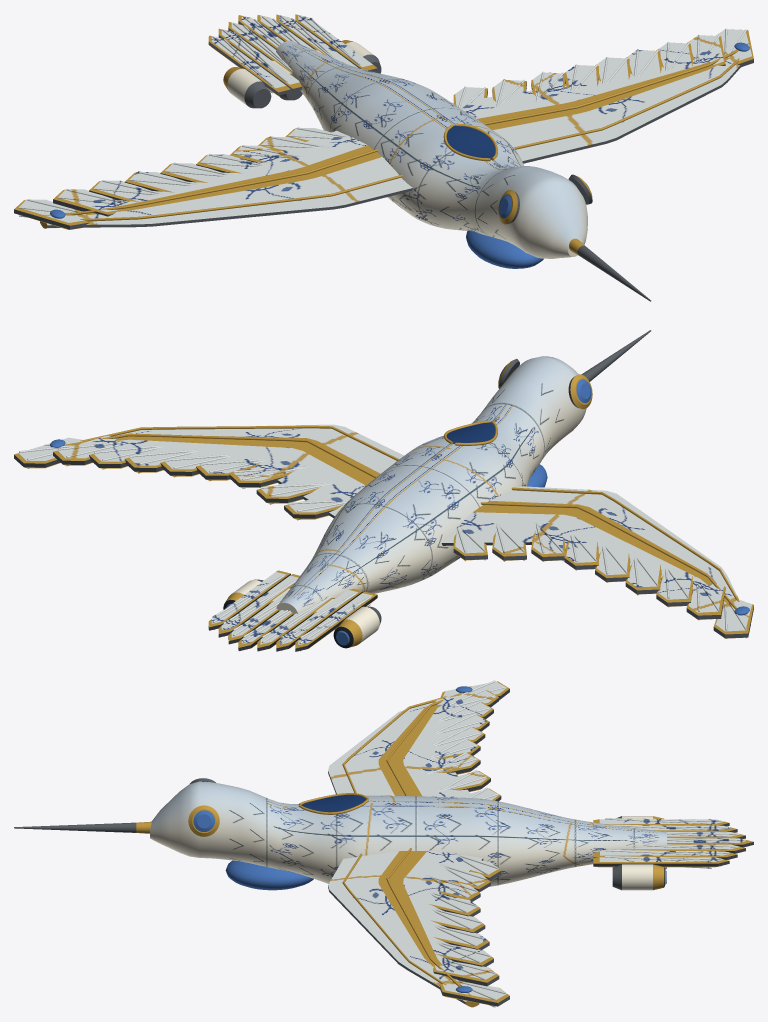
The picture shows the model from 3 angles, top to bottom: view 1: azimuth 30°, elevation 25°; view 2: azimuth 150°, elevation 25°; view 3: azimuth 270°, elevation 25°; orthographic projection. The views are drawn at different scales.
Parts seen in each view (by area): view 1: hummingbird_hull; view 2: hummingbird_hull; view 3: hummingbird_hull.
Part boxes in pixels (box(x1,y1,x2,y2)): hummingbird_hull: box(14, 14, 753, 301); hummingbird_hull: box(14, 330, 753, 651); hummingbird_hull: box(14, 680, 753, 1007).
Size of the model in its own units: 17 by 2.47 by 16.53.
Materials: 1 (1 with a texture image).
